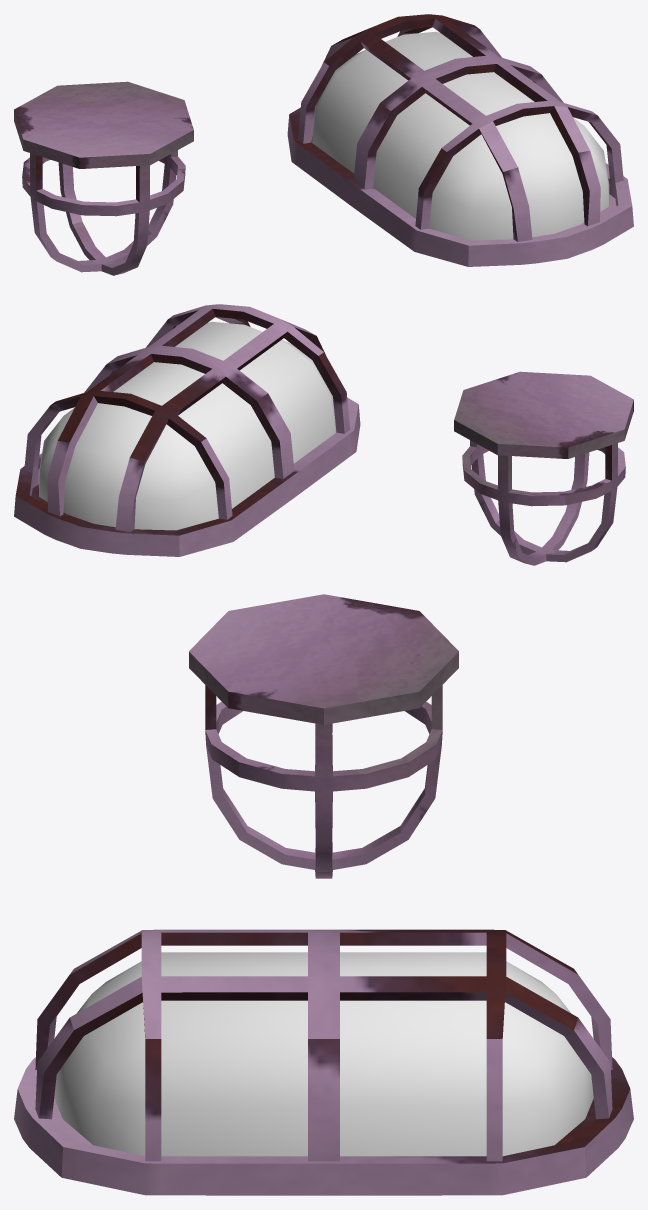
File: sub_environment_textured_001_light_capsule.fbx
3 views of the same model, one above another, from view 1: azimuth 30°, elevation 25°; view 2: azimuth 150°, elevation 25°; view 3: azimuth 270°, elevation 25° (orthographic). The views are drawn at different scales.
Parts seen in each view (by area): view 1: light.wall.cage.000, light.wall.cap, light.ceiling.cage.000; view 2: light.wall.cage.000, light.wall.cap, light.ceiling.cage.000; view 3: light.wall.cap, light.wall.cage.000, light.ceiling.cage.000.
Part boxes in pixels (x1,y1,x2,y2): light.wall.cage.000: [287, 14, 633, 266]; light.wall.cap: [312, 31, 609, 240]; light.ceiling.cage.000: [14, 81, 193, 275]; light.wall.cage.000: [14, 304, 360, 556]; light.wall.cap: [38, 321, 335, 530]; light.ceiling.cage.000: [454, 371, 633, 565]; light.wall.cap: [54, 952, 593, 1156]; light.wall.cage.000: [14, 929, 633, 1195]; light.ceiling.cage.000: [189, 594, 458, 878].
Size of the model in its own units: 158 by 41.06 by 107.
